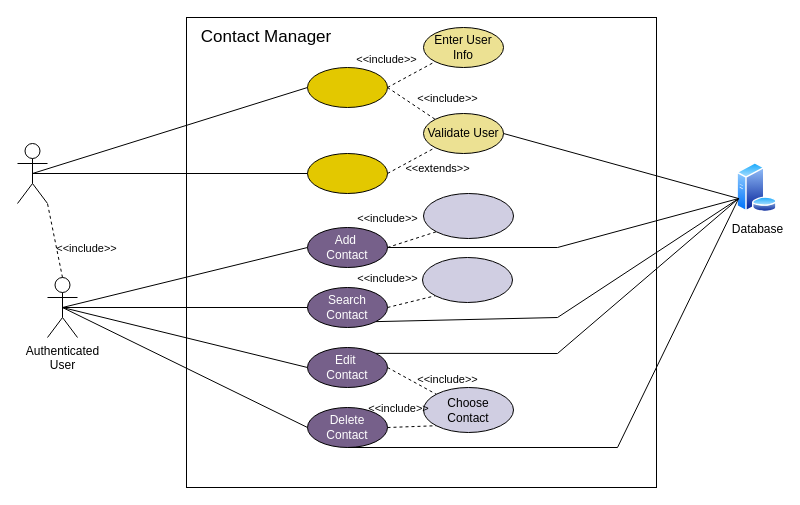
Some shapes in this 800 by 505 pixel diagram are drawn without their labels. Here are the shapes that lost their labels. From the top down, the centre of each, then its label:
At pixel 347 87: "Register User".
At pixel 32 173: "User".
At pixel 347 173: "Login".
At pixel 468 215: "Enter Contact Info".
At pixel 467 279: "Search Parameters".
